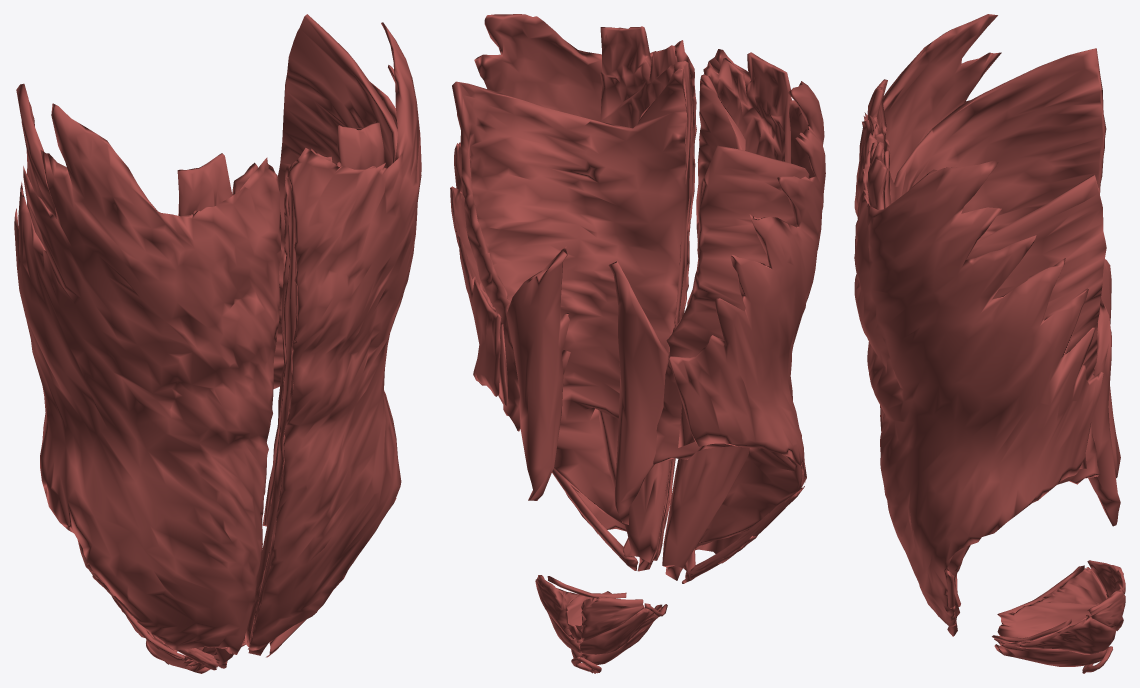
Rendered from abdomen-and-pelvis.glb.
3 views of the same model, side by side, from view 1: azimuth 30°, elevation 25°; view 2: azimuth 150°, elevation 25°; view 3: azimuth 270°, elevation 25° (orthographic). The views are drawn at different scales.
Visible parts, largest first — view 1: FMA13336, FMA13337, FMA22345, FMA13378, FMA13377, FMA22344, FMA13893, FMA21964; view 2: FMA22345, FMA13336, FMA22344, FMA13337, FMA13377, FMA13378, FMA22349, FMA22348, FMA13893, FMA46443, FMA45858, FMA21964 (+5 smaller); view 3: FMA13337, FMA22344, FMA22345, FMA13336, FMA22349, FMA45854, FMA45859, FMA45857, FMA45858, FMA13378, FMA22348, FMA46444 (+3 smaller).
Boxes of the visible parts, x1,y1,x2,y2 form: FMA13336: [14, 103, 281, 654]; FMA13337: [248, 22, 421, 650]; FMA22345: [248, 14, 397, 655]; FMA13378: [244, 121, 384, 647]; FMA13377: [177, 153, 257, 216]; FMA22344: [16, 83, 233, 665]; FMA13893: [250, 177, 297, 645]; FMA21964: [87, 563, 218, 670]; FMA22345: [452, 68, 686, 571]; FMA13336: [668, 49, 825, 563]; FMA22344: [653, 74, 809, 580]; FMA13337: [450, 14, 696, 560]; FMA13377: [662, 52, 790, 568]; FMA13378: [598, 26, 691, 562]; FMA22349: [506, 246, 570, 500]; FMA22348: [608, 259, 668, 524]; FMA13893: [479, 63, 695, 560]; FMA46443: [580, 596, 644, 642]; FMA45858: [579, 607, 658, 654]; FMA21964: [682, 474, 805, 583]; FMA13337: [854, 133, 1103, 626]; FMA22344: [883, 48, 1106, 241]; FMA22345: [883, 150, 1106, 581]; FMA13336: [854, 14, 1001, 431]; FMA22349: [1088, 297, 1120, 526]; FMA45854: [997, 602, 1098, 642]; FMA45859: [1015, 615, 1115, 654]; FMA45857: [994, 642, 1106, 666]; FMA45858: [1035, 567, 1107, 604]; FMA13378: [867, 142, 959, 619]; FMA22348: [1101, 259, 1120, 478]; FMA46444: [1087, 588, 1125, 630].
Bounding box in the file's own units: 0.2775 × 0.4666 × 0.1956.
